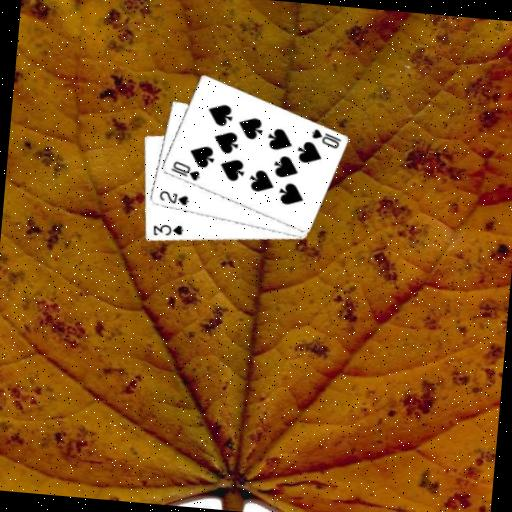10S: (307, 125, 343, 151), (166, 158, 202, 183)
2S: (156, 188, 191, 208)
3S: (150, 221, 186, 240)
